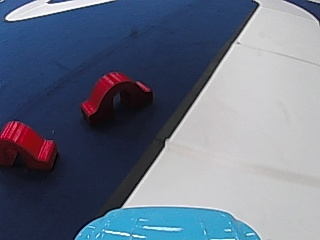bridge: (78, 68, 152, 123), (0, 118, 59, 172)
